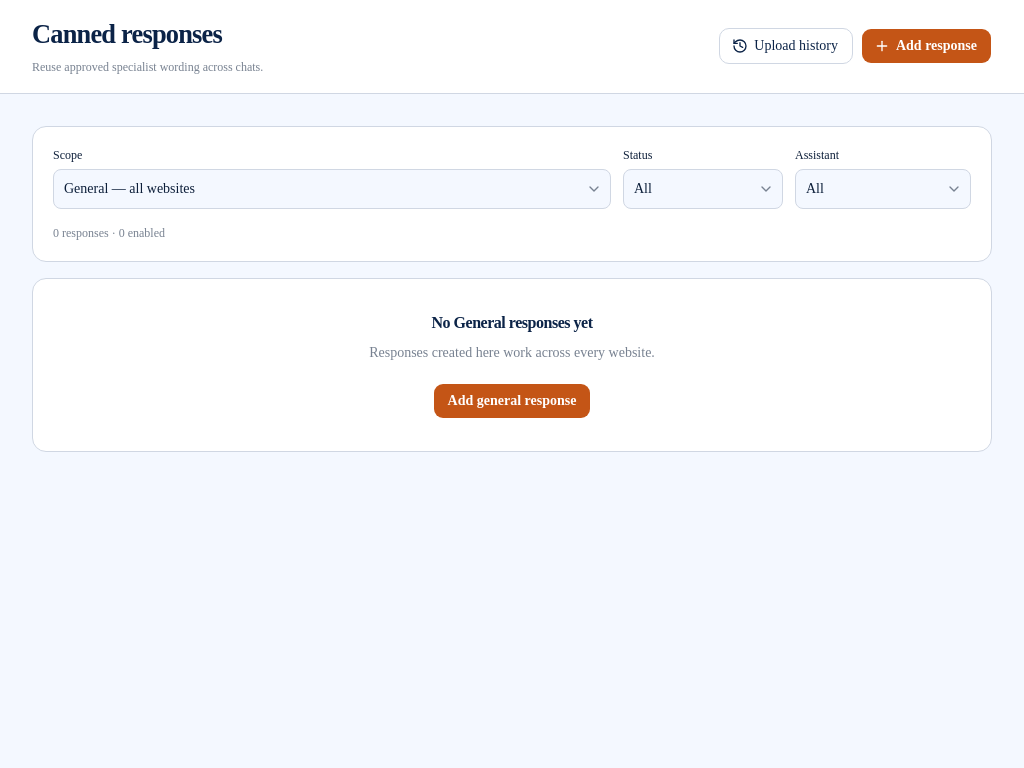
opens upload history and reviews the saved wording for one file
The image size is (1024, 768).
Click the button "Upload history" at (786, 46), box top-left (719, 28), bottom-right (853, 64)
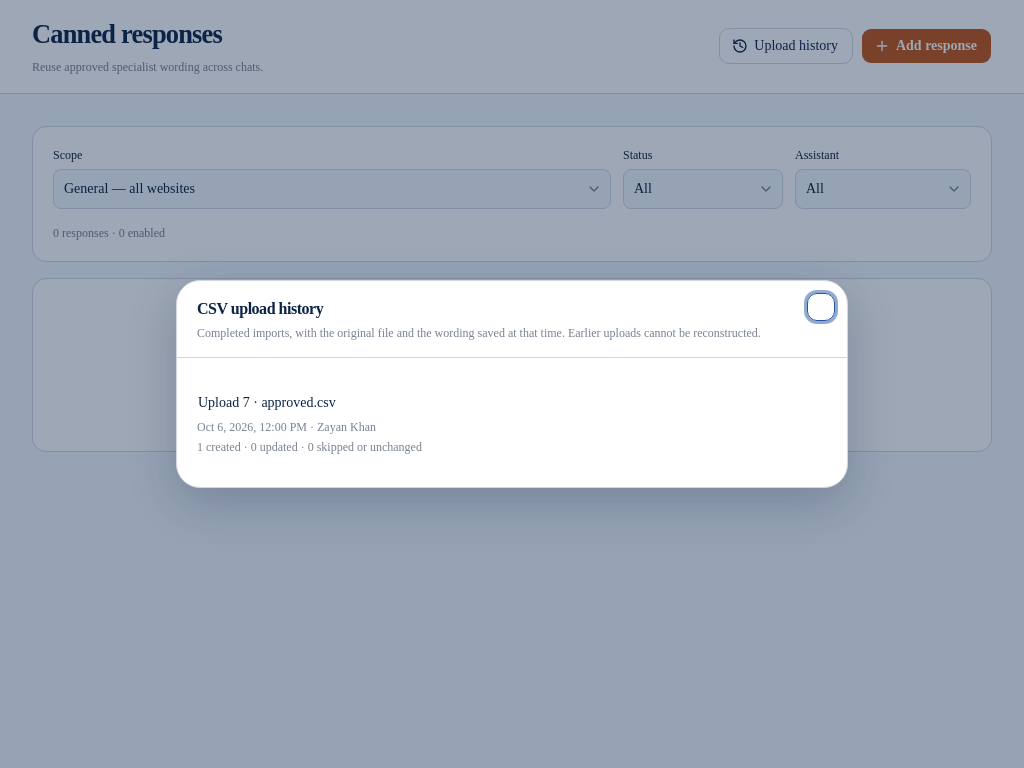
Click the button with aria-label "View upload 7: approved.csv" at (267, 403), box top-left (197, 395), bottom-right (337, 411)
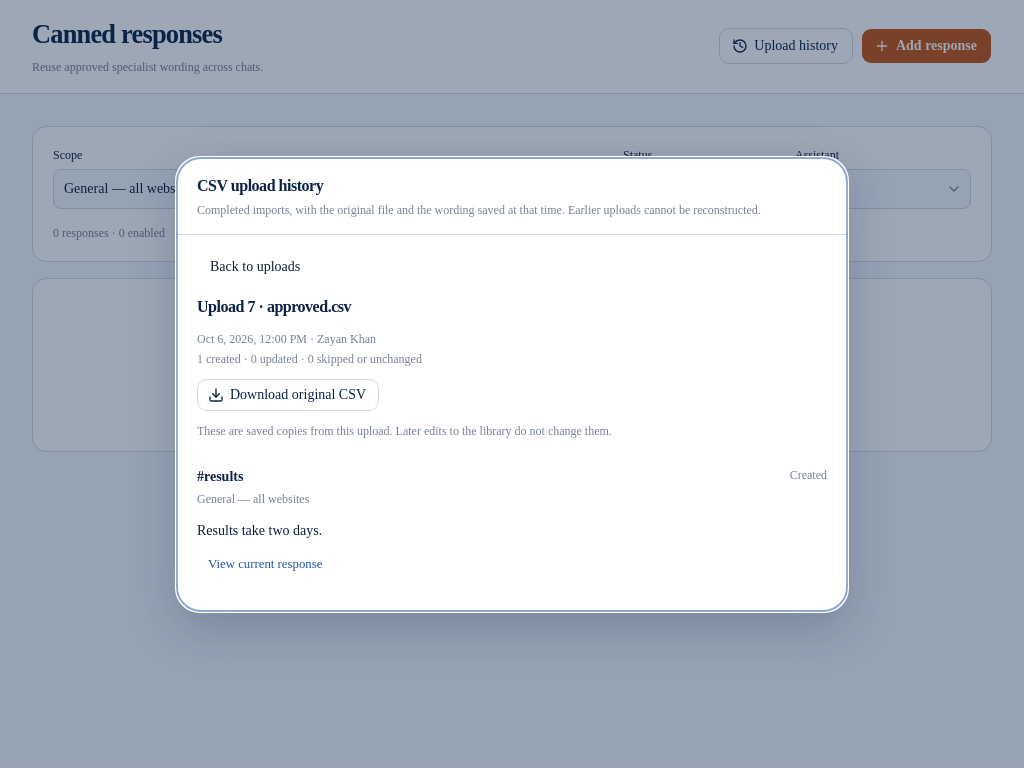
Now the text "Zayan Khan" is shown, box top-left (317, 332), bottom-right (376, 346)
Now the text "Results take two days." is shown, box top-left (197, 522), bottom-right (322, 538)
Now the text "#results" is shown, box top-left (197, 466), bottom-right (243, 486)
Press Escape
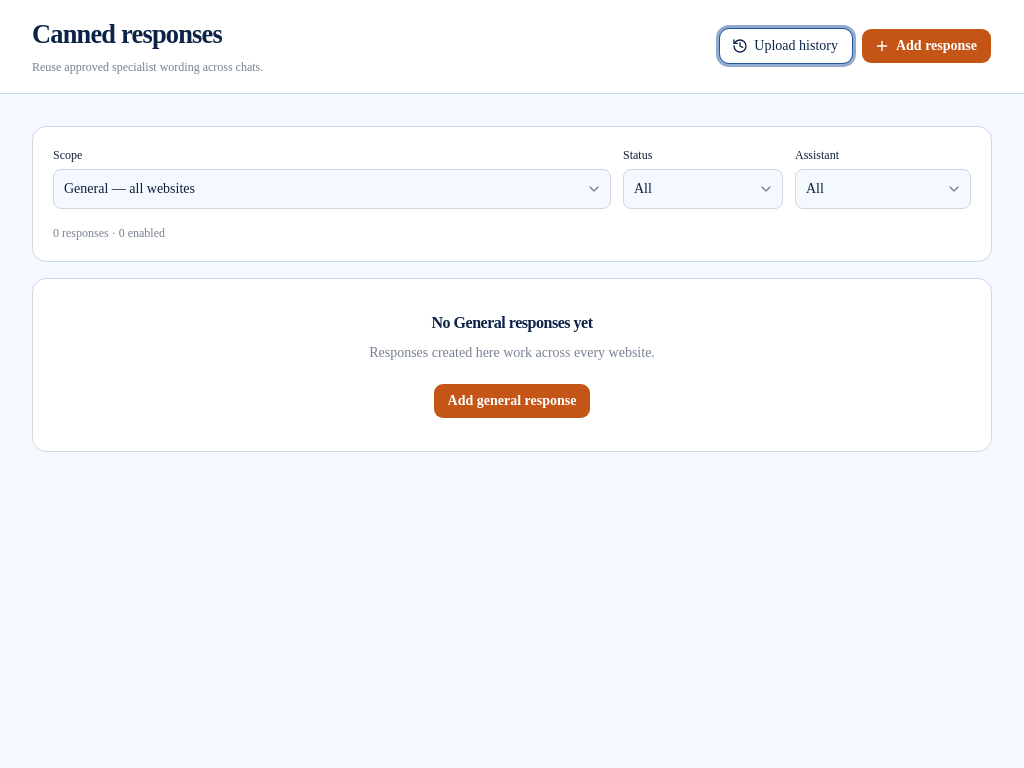
Expected: the heading "Canned responses" is shown, top-left (32, 16), bottom-right (222, 53)
Now the dialog is gone
